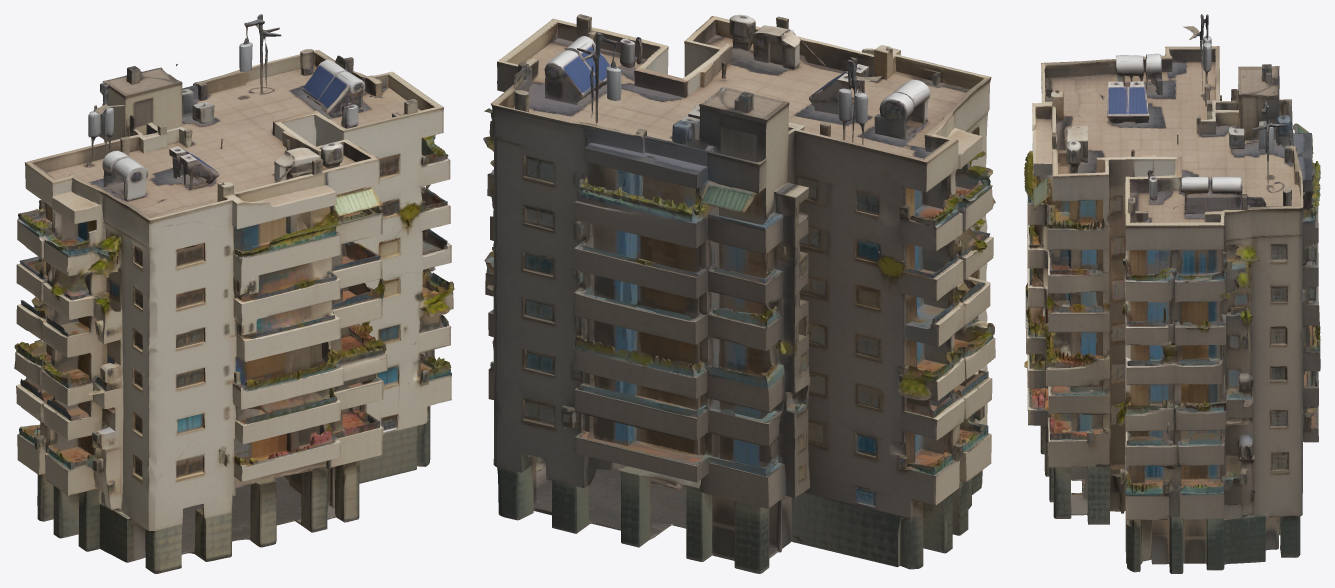
Rendered from r3_block8_b.glb.
3 views of the same model, side by side, from view 1: azimuth 30°, elevation 25°; view 2: azimuth 150°, elevation 25°; view 3: azimuth 270°, elevation 25° (orthographic). The views are drawn at different scales.
Visible parts, largest first — view 1: geometry_0; view 2: geometry_0; view 3: geometry_0.
Part boxes in pixels (left/top/right/bottom): geometry_0: left=14, top=14, right=454, bottom=573; geometry_0: left=483, top=14, right=995, bottom=573; geometry_0: left=1024, top=14, right=1320, bottom=573.
Size of the model in its own units: 28 by 28 by 18.
1 material, 1 textured.
